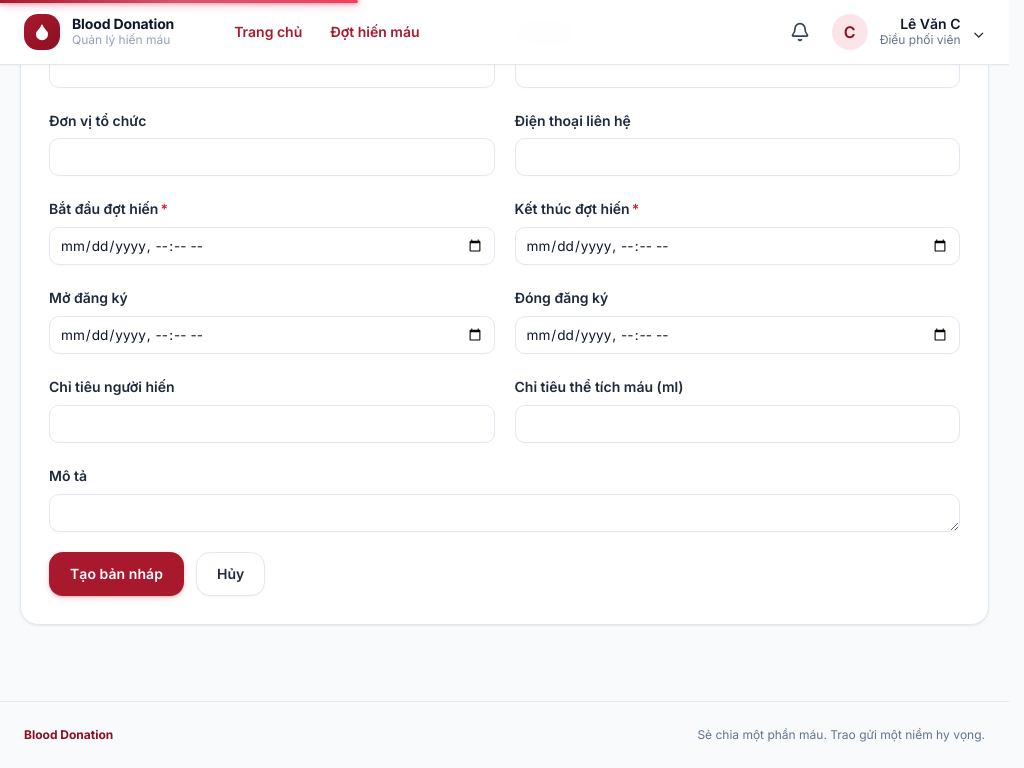
Test: Campaign forms and actions › validates required fields then creates a draft and opens detail
(page scrolled)
Click the button "Tạo bản nháp": {"x": 116, "y": 574} [49,552,184,596]
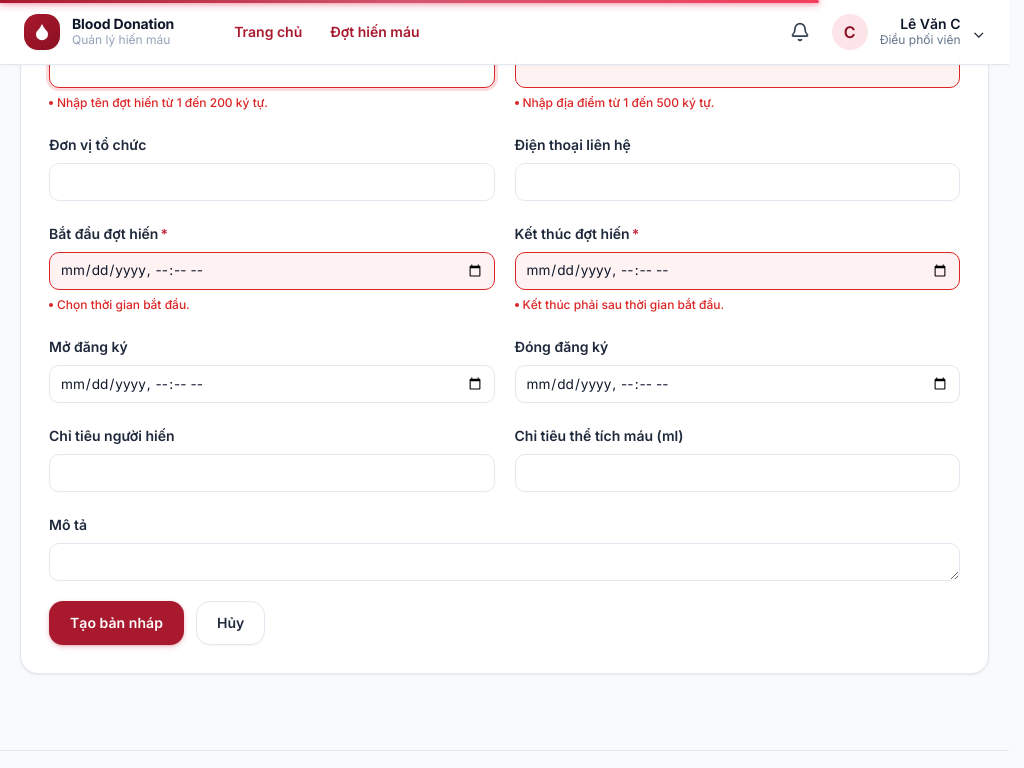
In the field labelled "Tên đợt hiến máu*": {"x": 272, "y": 69} [49,50,494,88], type "Đợt hiến thử nghiệm"
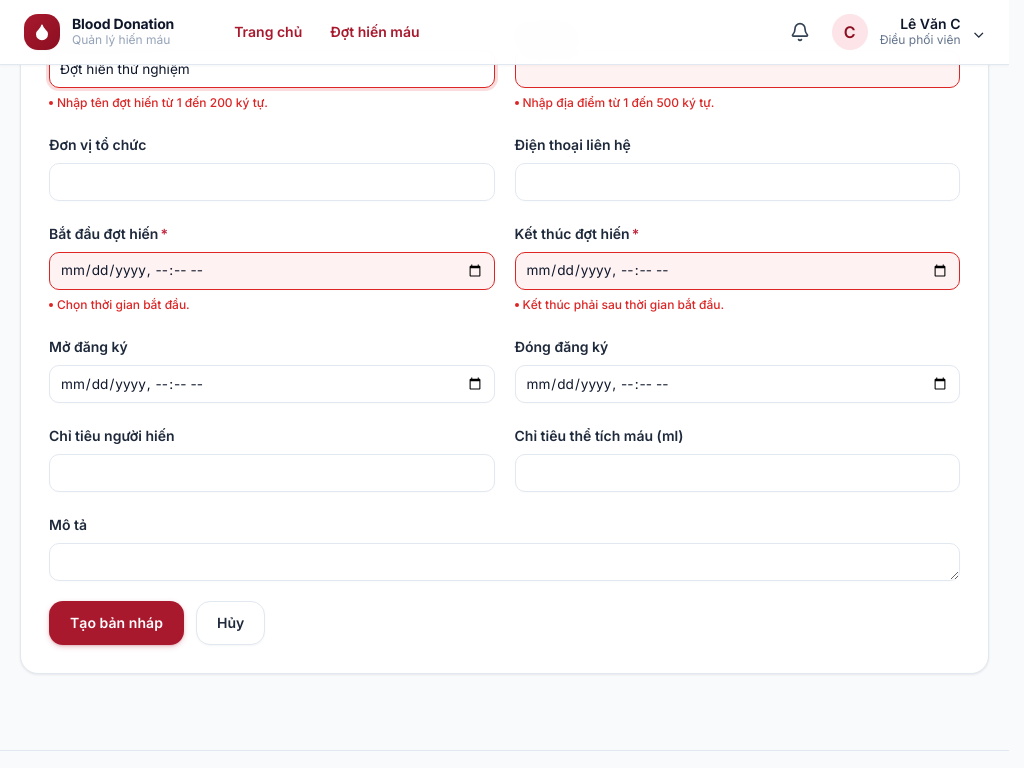
In the field labelled "Địa điểm*": {"x": 737, "y": 69} [514,50,960,88], type "Trung tâm cộng đồng"
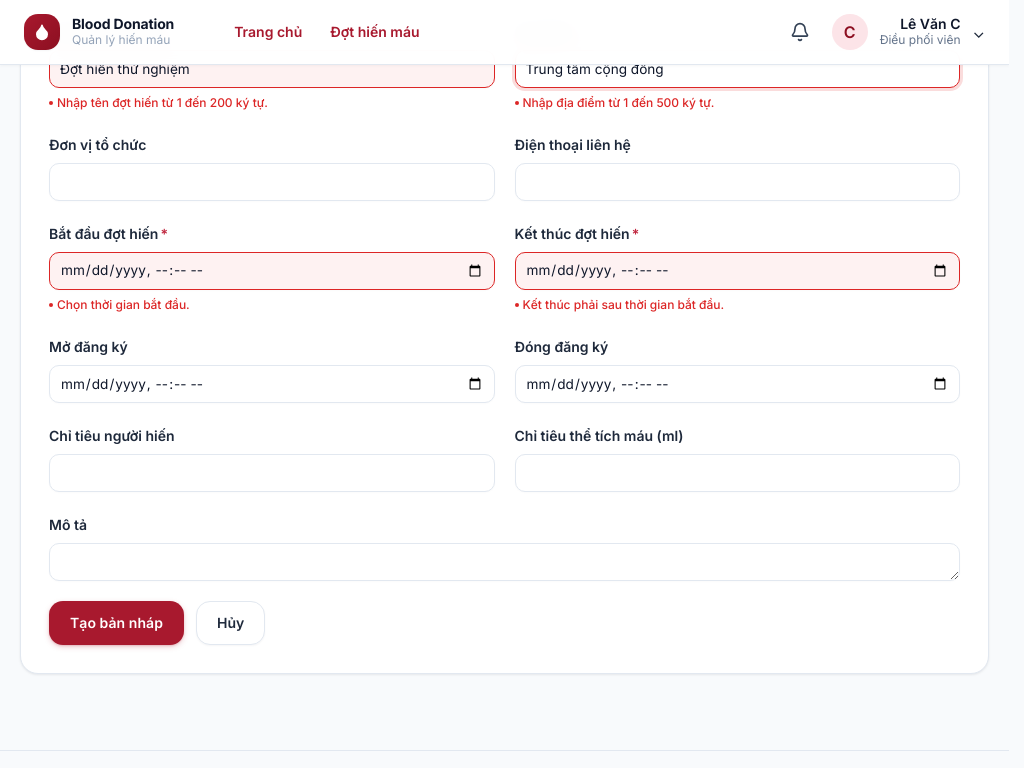
In the field labelled "Bắt đầu đợt hiến*": {"x": 272, "y": 271} [49,252,494,290], type "2026-10-20T08:00"
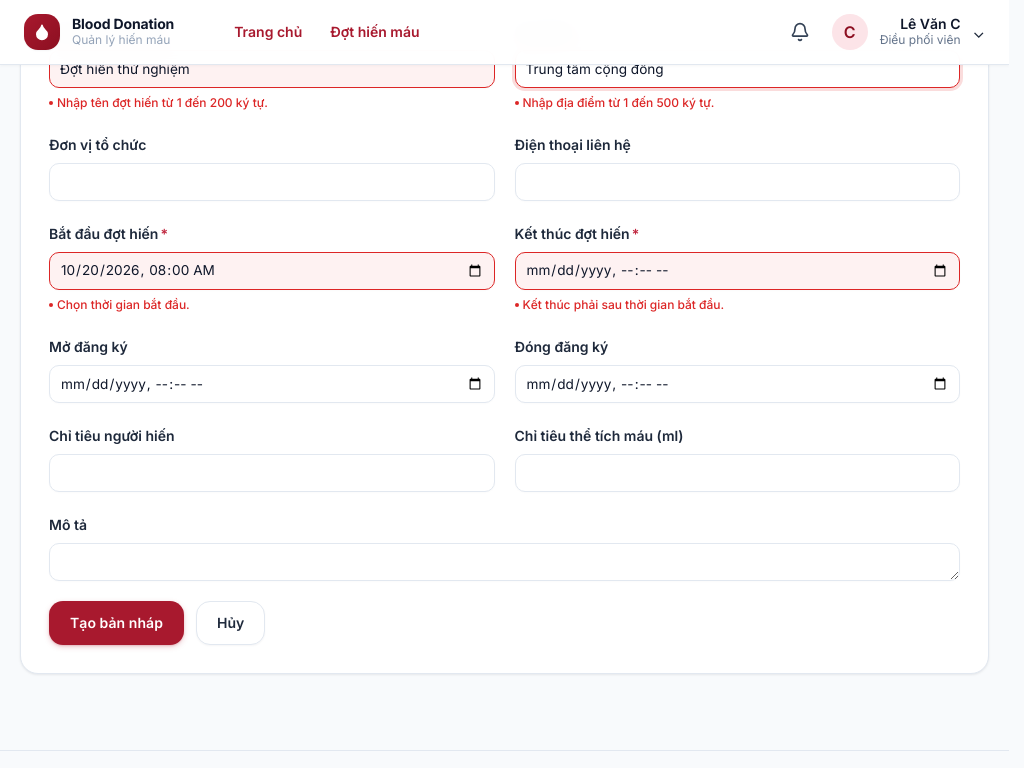
In the field labelled "Kết thúc đợt hiến*": {"x": 737, "y": 271} [514,252,960,290], type "2026-10-20T16:00"
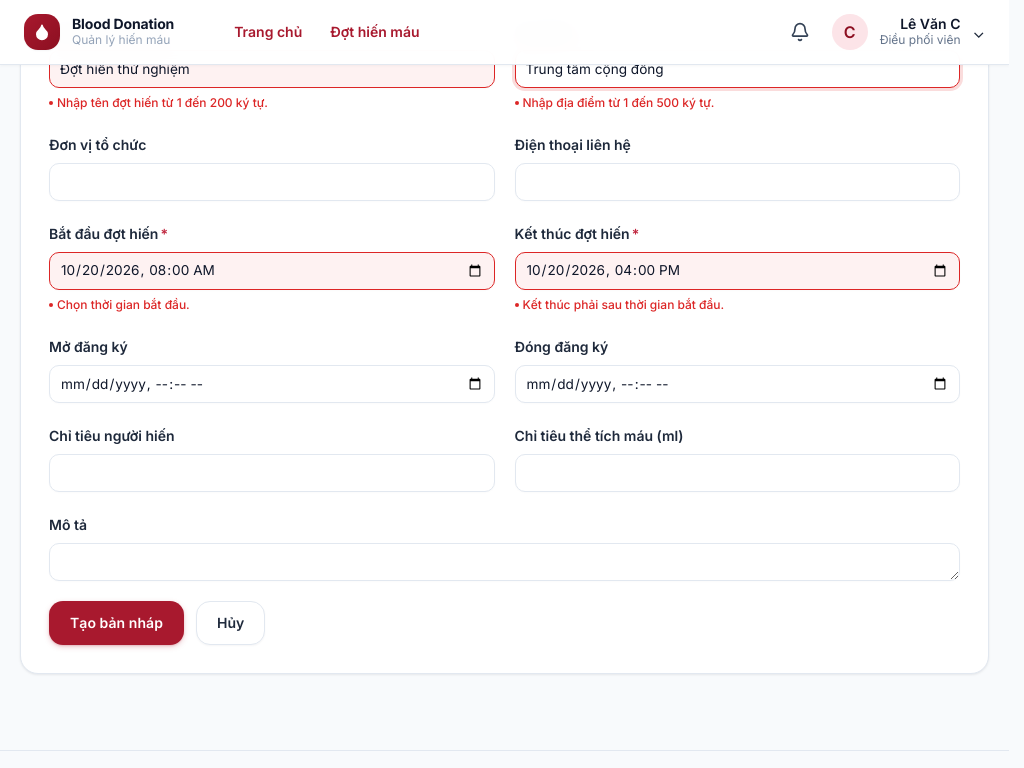
Click the button "Tạo bản nháp": {"x": 116, "y": 623} [49,601,184,645]
(page scrolled)
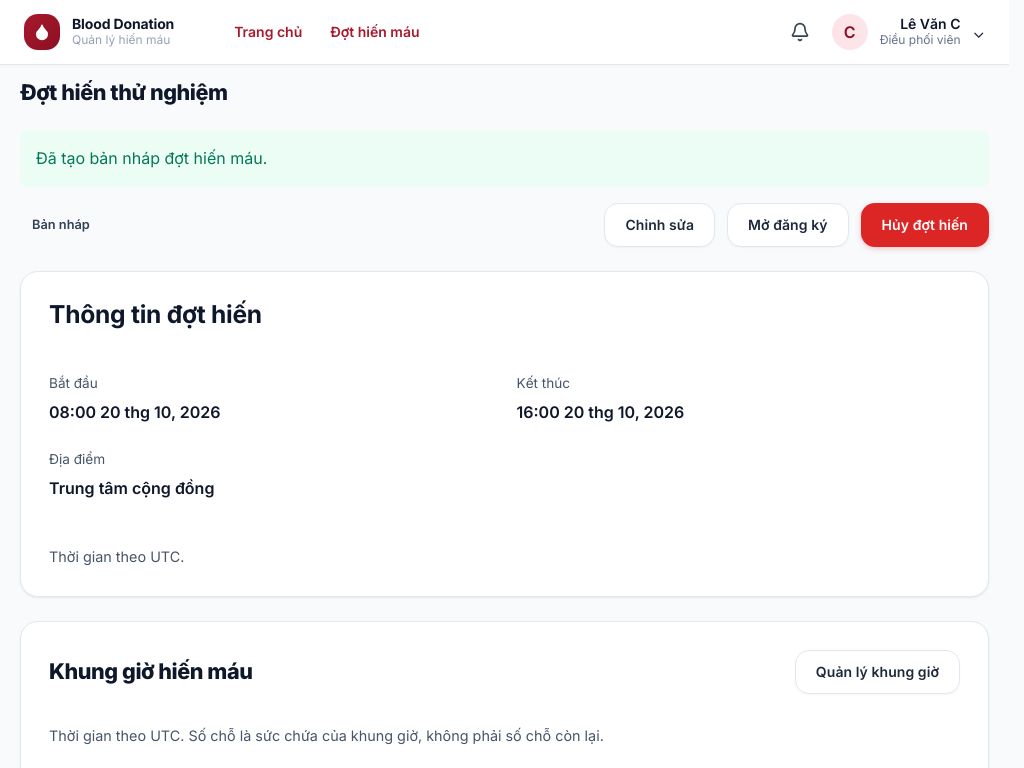
Check: the text "Đã tạo bản nháp đợt hiến máu." is shown, box [20,130,989,187]
